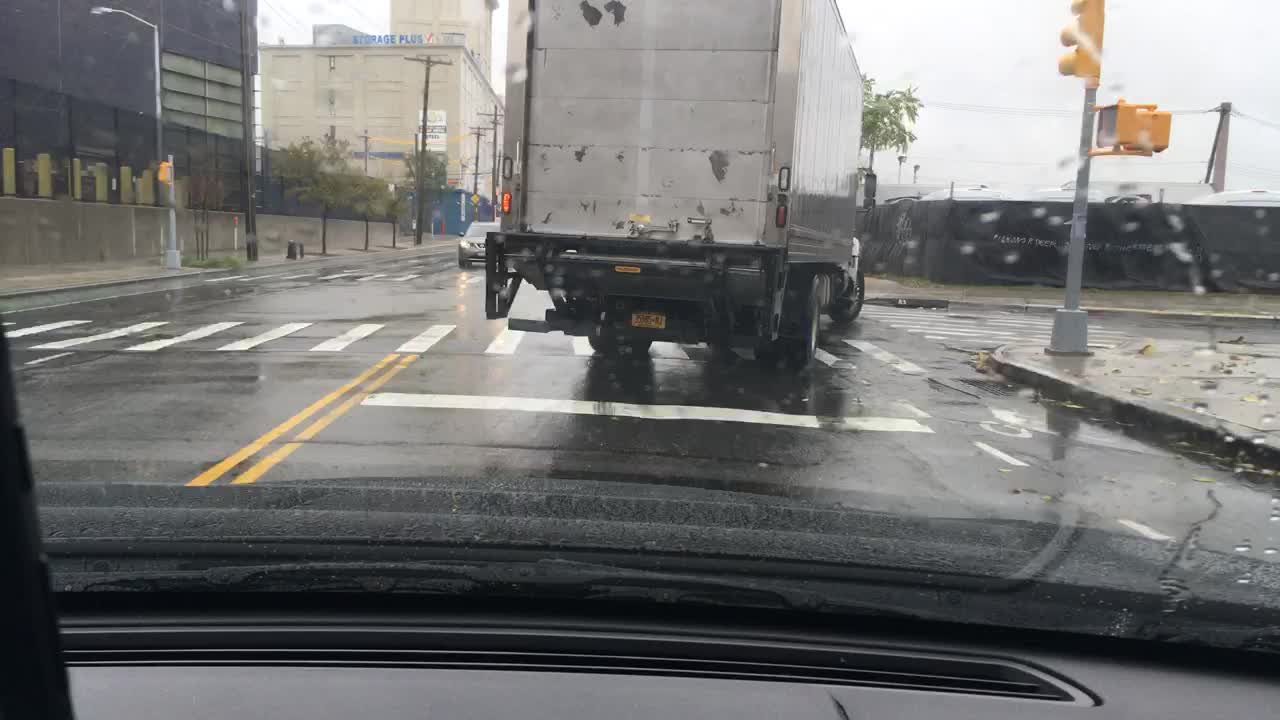car: (452, 219, 502, 269)
traffic light: (1055, 0, 1105, 77), (1090, 101, 1140, 152), (1132, 106, 1170, 152), (157, 162, 173, 184)
traffic sign: (467, 193, 485, 204)
truck: (481, 0, 880, 376)
